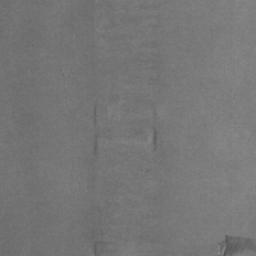Rolled pit: (95, 99, 156, 146), (218, 235, 256, 256), (94, 241, 113, 256)
